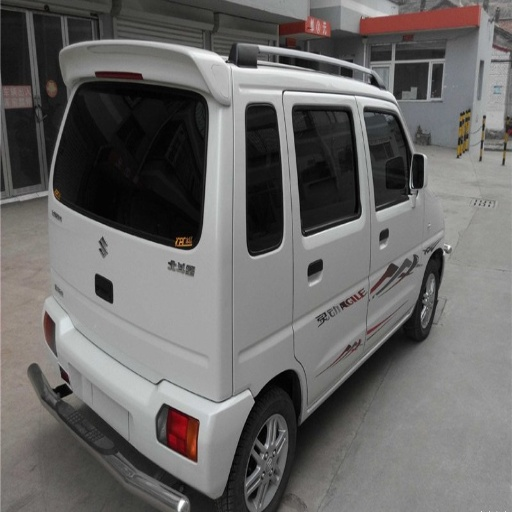back_bumper: (134, 377, 244, 453)
back_glass: (65, 83, 195, 171)
trunk: (200, 265, 288, 359), (114, 278, 172, 343)
